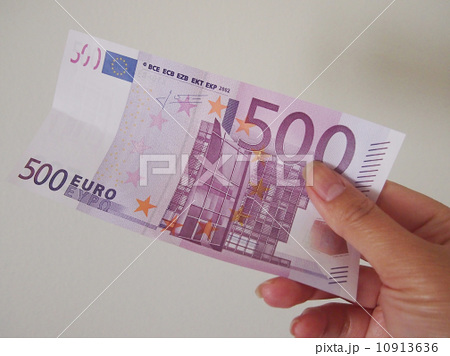billete: (4, 28, 407, 307)
